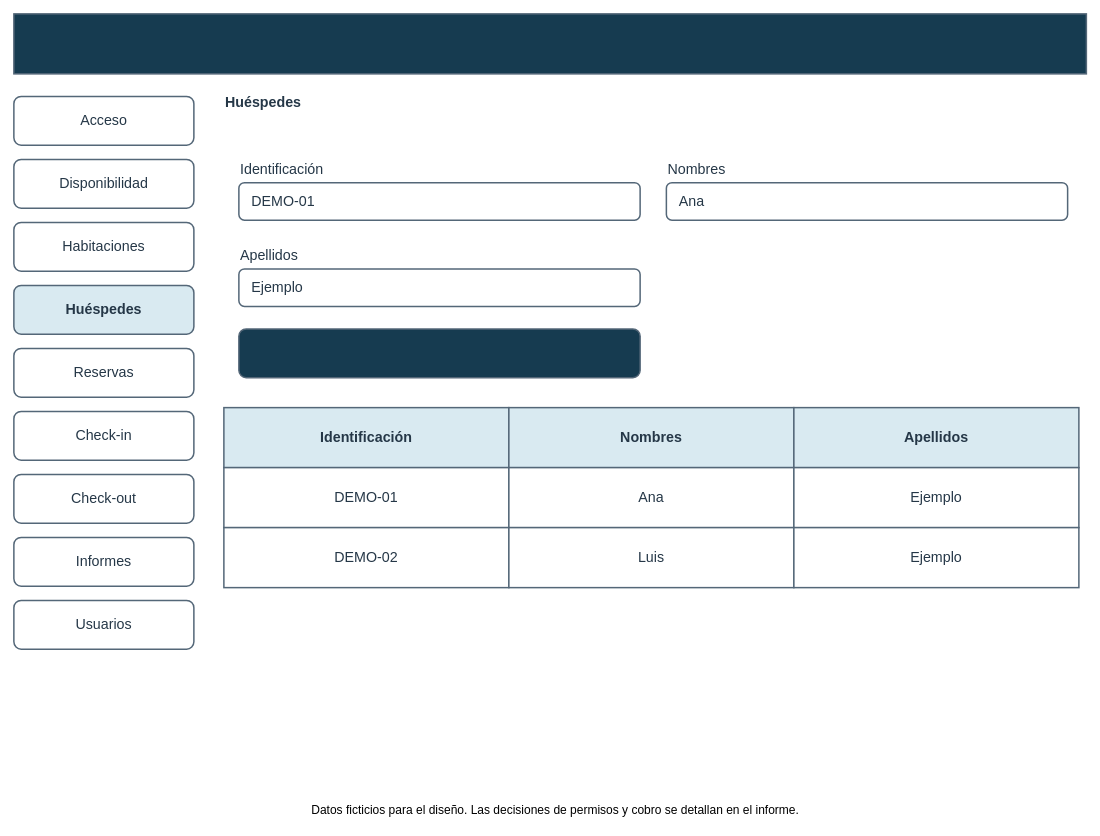
The diagram is 1100 pixels wide and 836 high, and some of its shapes have lost their labels. The centre of each missing label's shape, as x and y in pixels:
Guardar huésped: point (439, 353)
Hotel Duerme Bien · Sistema de pasajeros: point (550, 43)
